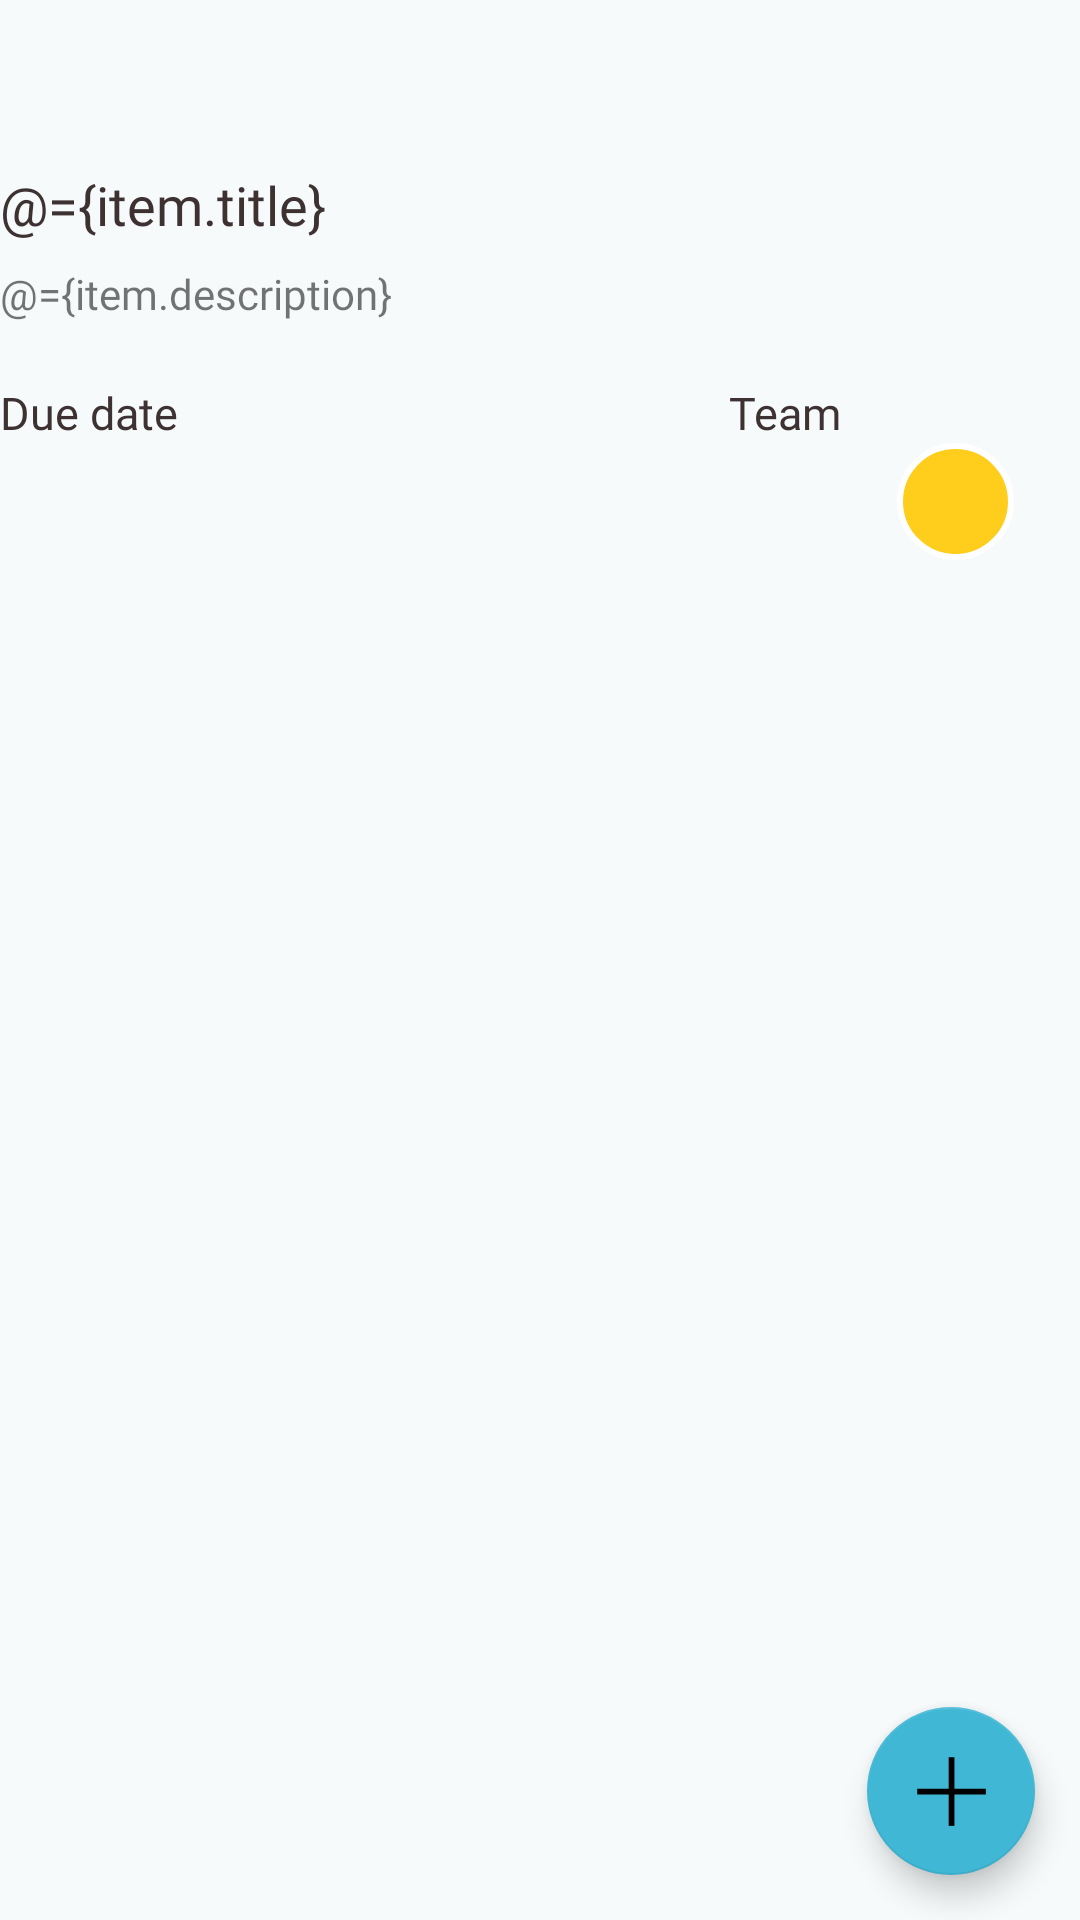

Icons on this 1080×1920 Android screen, each with the point to tap as (x=x, y=y):
New task: (x=951, y=1791)
